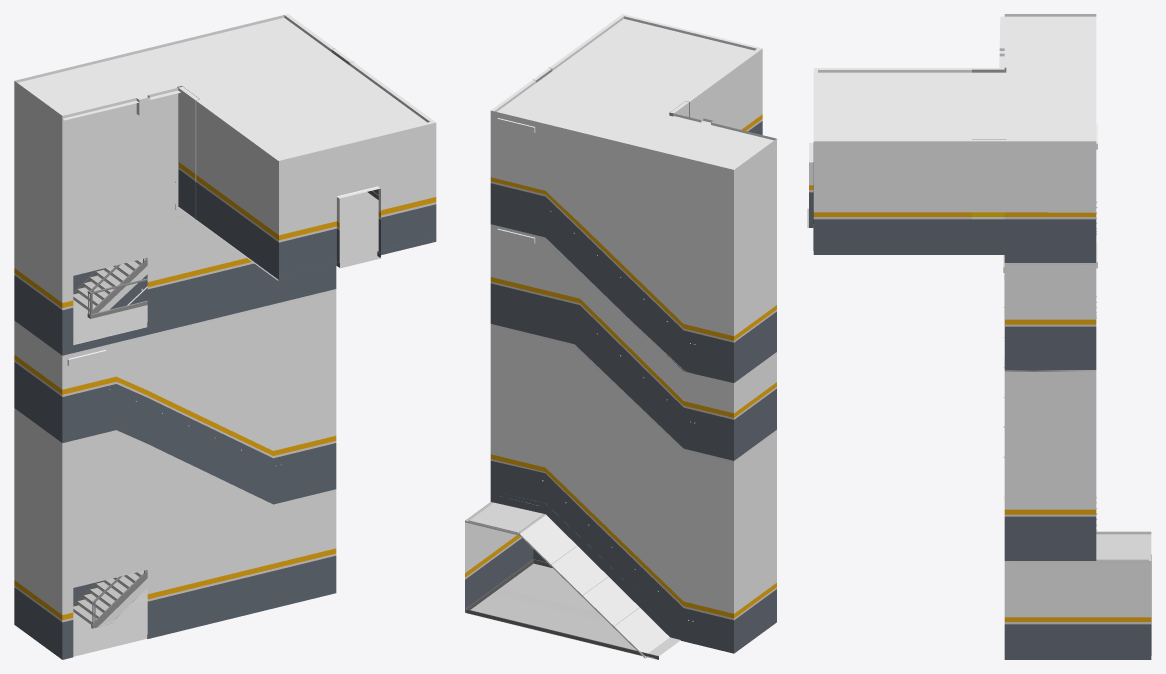
3 renders of one model, left to right at view 1: azimuth 30°, elevation 25°; view 2: azimuth 150°, elevation 25°; view 3: azimuth 270°, elevation 25°, orthographic. The views are drawn at different scales.
Visible parts, largest first — view 1: SM_H_Building_FutureTech_CtControl_01_InterWall_05B; view 2: SM_H_Building_FutureTech_CtControl_01_InterWall_05B; view 3: SM_H_Building_FutureTech_CtControl_01_InterWall_05B.
Part boxes in pixels (x1,y1,x2,y2): SM_H_Building_FutureTech_CtControl_01_InterWall_05B: (14,14,436,659); SM_H_Building_FutureTech_CtControl_01_InterWall_05B: (465,14,778,659); SM_H_Building_FutureTech_CtControl_01_InterWall_05B: (807,14,1151,659).
Size of the model in its own units: 435 by 381 by 726.
